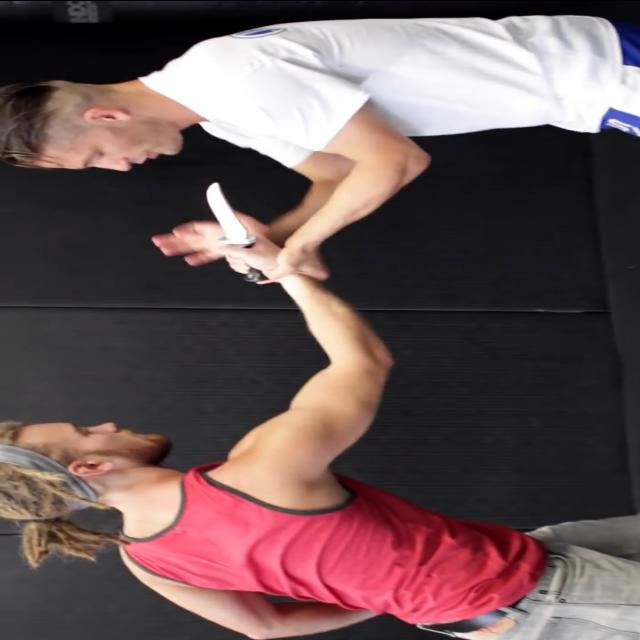knife: (189, 178, 271, 288)
